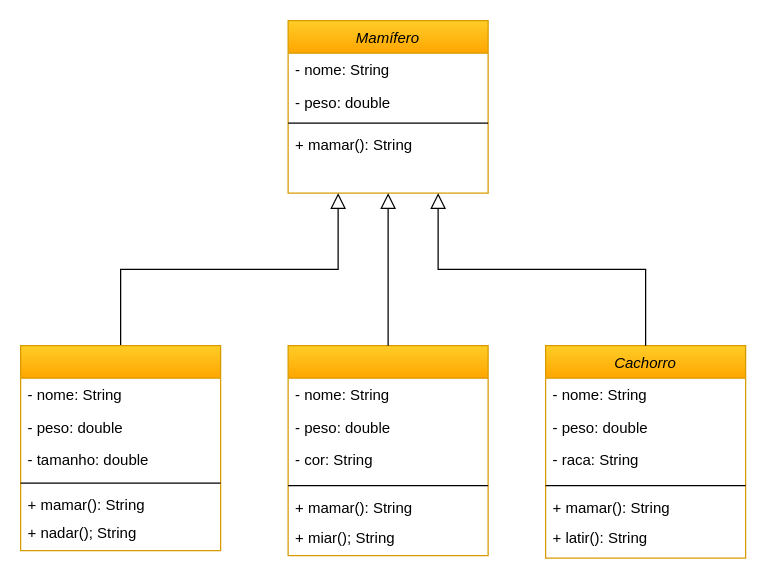
Image size: 766x579. Some labels were removed from this diagram. The shapes that lost their labels are listed below. From the top down, each one's box as (x1, y1, x2, y2) in pixels, then its label:
(19, 344, 221, 551): Baleia
(287, 344, 488, 556): Gato
